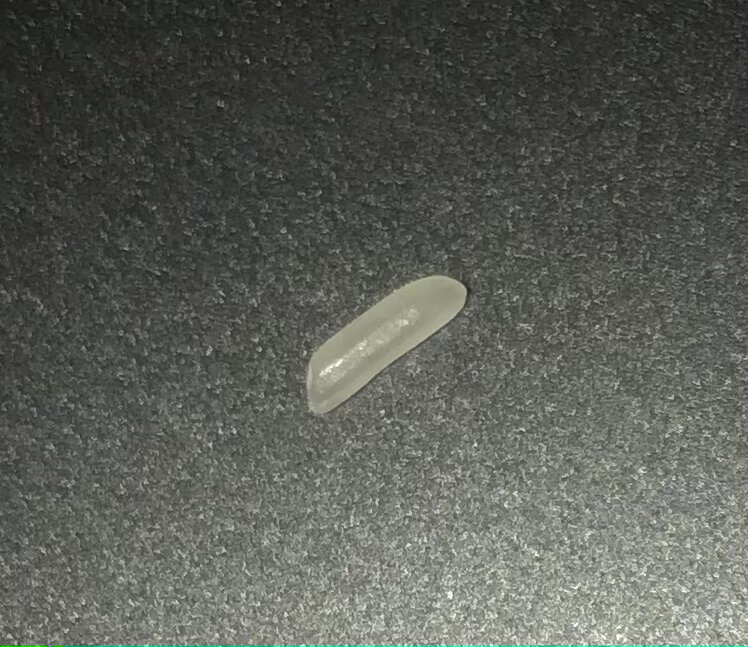Gao Long Lai: (300, 269, 469, 419)
